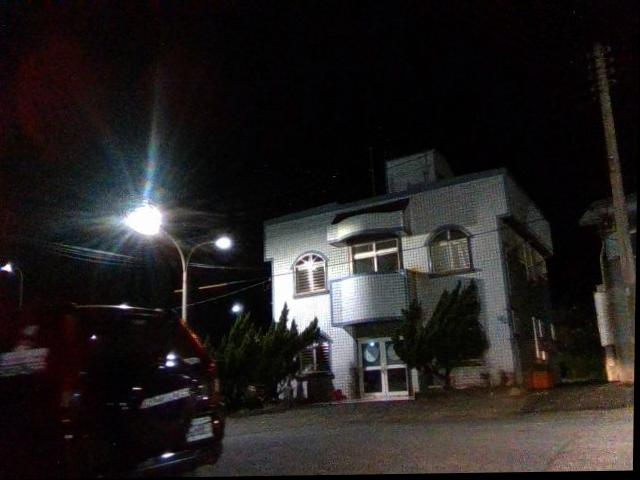pollute: (526, 367, 563, 395)
